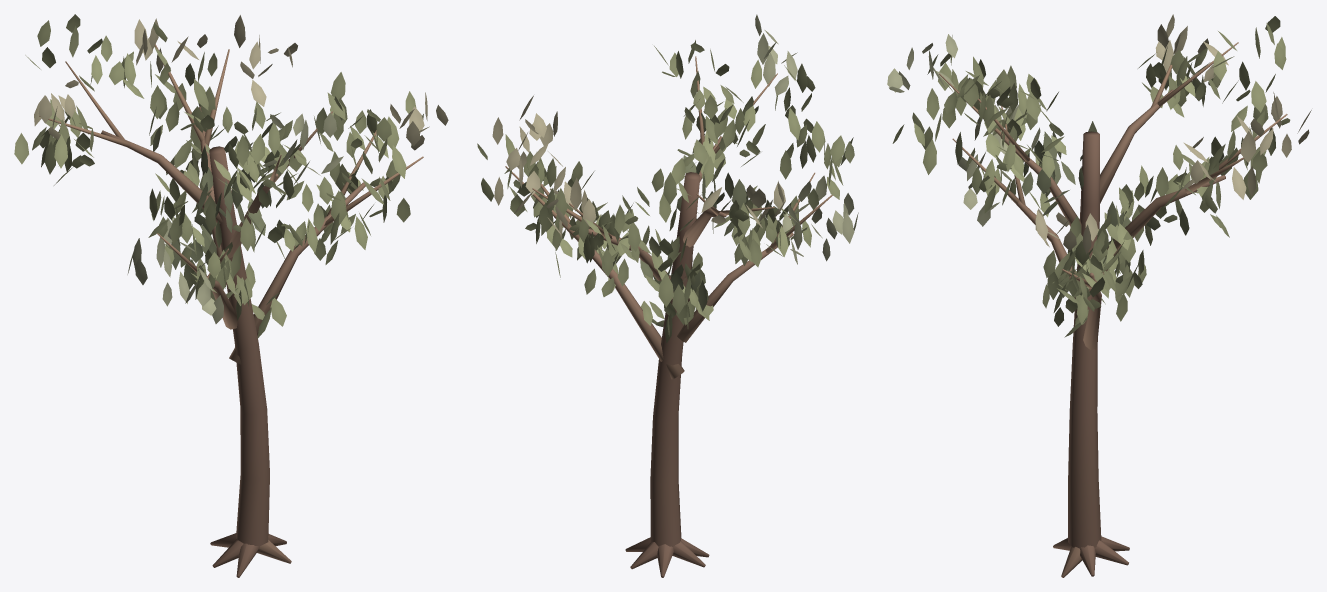
Rendered from tree_3d_06.glb.
The picture shows the model from 3 angles, left to right: view 1: azimuth 30°, elevation 25°; view 2: azimuth 150°, elevation 25°; view 3: azimuth 270°, elevation 25°; orthographic projection. The views are drawn at different scales.
Parts seen in each view (by area): view 1: tree_3d_06_foliage, tree_3d_06_wood; view 2: tree_3d_06_foliage, tree_3d_06_wood; view 3: tree_3d_06_foliage, tree_3d_06_wood.
Boxes of the visible parts, x1=… form: tree_3d_06_foliage: x1=14, y1=14, x2=448, y2=338; tree_3d_06_wood: x1=39, y1=44, x2=423, y2=577; tree_3d_06_foliage: x1=477, y1=14, x2=858, y2=342; tree_3d_06_wood: x1=505, y1=56, x2=832, y2=577; tree_3d_06_foliage: x1=887, y1=14, x2=1311, y2=337; tree_3d_06_wood: x1=939, y1=42, x2=1287, y2=577.
Size of the model in its own units: 5.96 by 8.16 by 6.13.
